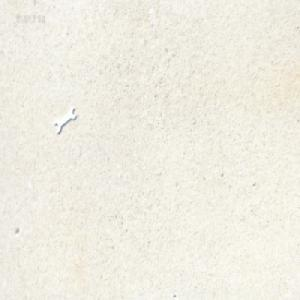Wrench: (53, 106, 76, 137)
